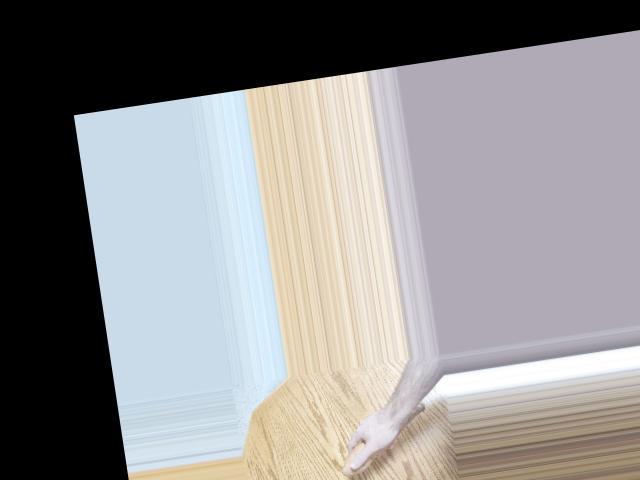sweet_potato: (332, 402, 435, 479)
